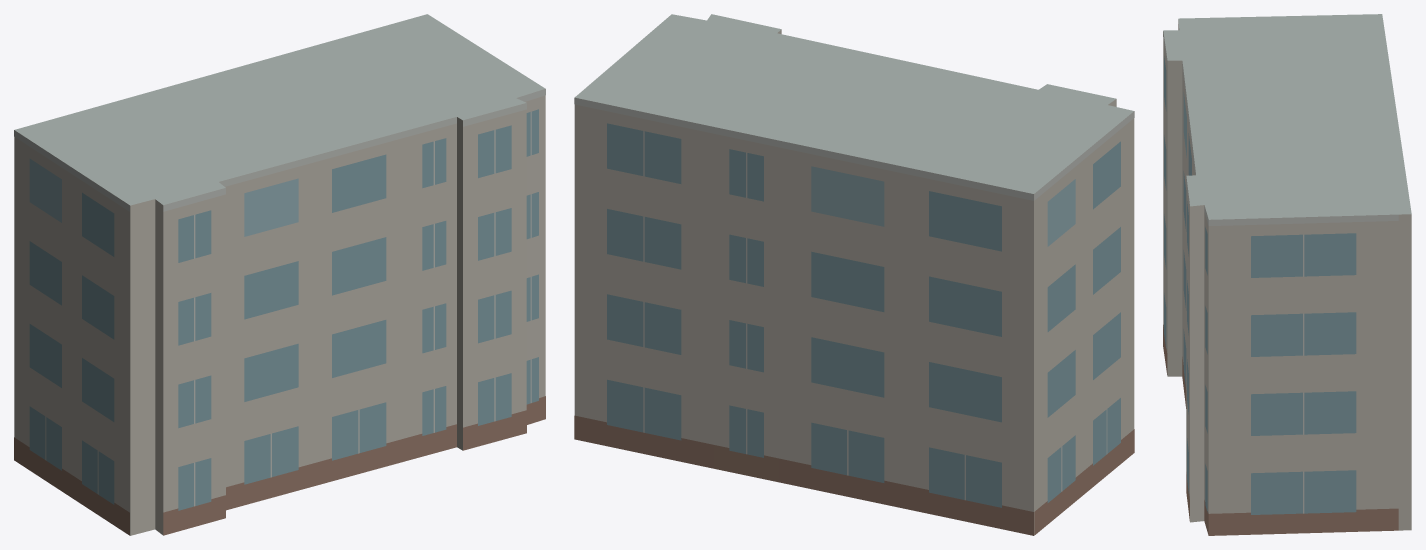
The model's file is survey-upis-32916313.glb.
The picture shows the model from 3 angles, left to right: view 1: azimuth 30°, elevation 25°; view 2: azimuth 150°, elevation 25°; view 3: azimuth 270°, elevation 25°; orthographic projection. The views are drawn at different scales.
Visible parts, largest first — view 1: survey-upis-32916313.tmp; view 2: survey-upis-32916313.tmp; view 3: survey-upis-32916313.tmp.
Part boxes in pixels (x1=…): survey-upis-32916313.tmp: x1=14, y1=14, x2=545, y2=535; survey-upis-32916313.tmp: x1=574, y1=14, x2=1134, y2=535; survey-upis-32916313.tmp: x1=1163, y1=14, x2=1411, y2=535.
Bounding box in the file's own units: 17.05 × 12.2 × 8.71.
